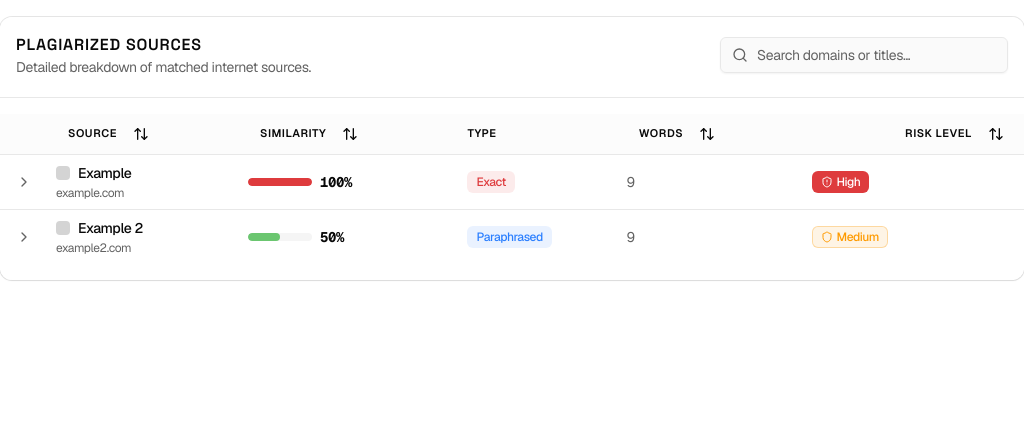
Test: MatchedSourcesTable › left panel renders matchedText (Requirements 8.1)
Expand the first row
Click the row "Example example.com 100% Exact 9 High".
click(512, 182)  # box [0,154,1023,209]
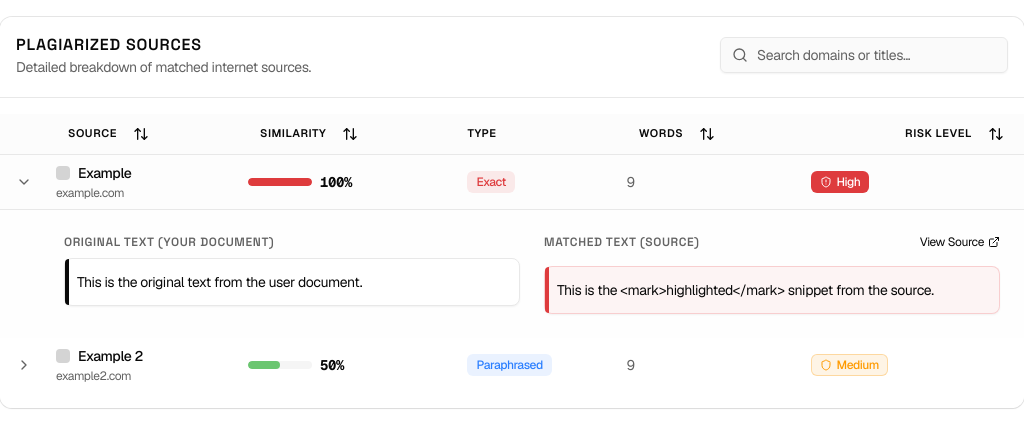
Check: the text "This is the original text from the user document." is shown, box [64,258,520,306]
